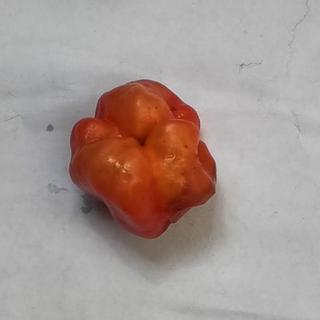Grade-B: (62, 75, 219, 243)
